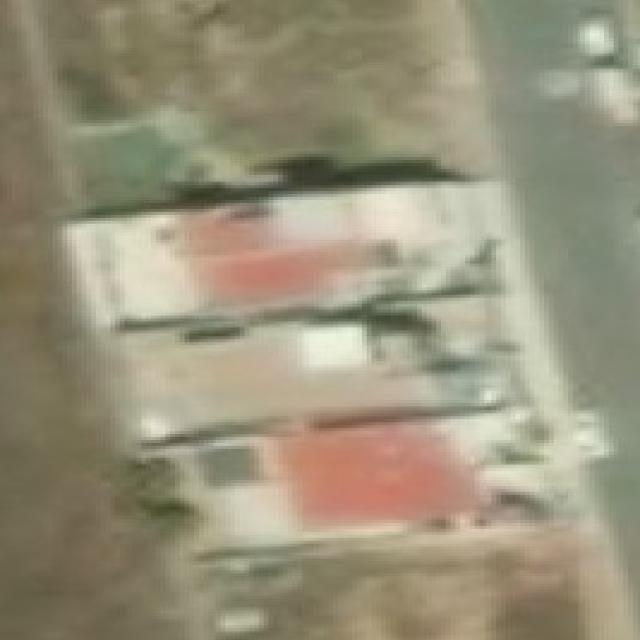Batiment: (65, 182, 502, 330), (113, 292, 540, 432), (144, 410, 578, 547)
